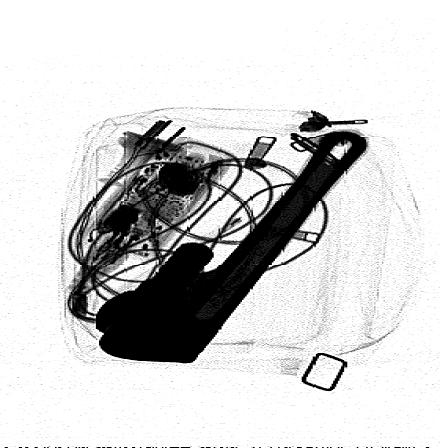Wrench: (96, 131, 367, 364)
